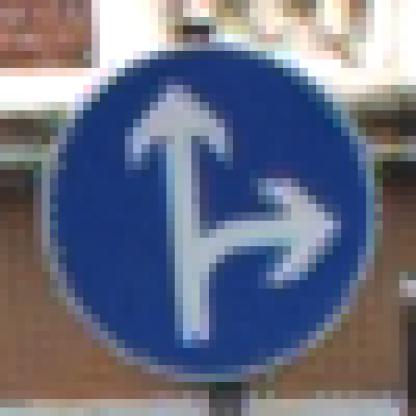Straight or Right: (51, 44, 375, 375)
